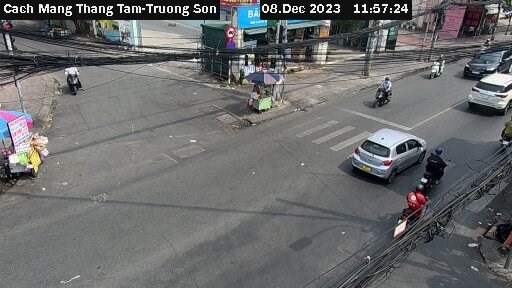car: (352, 121, 422, 177), (474, 70, 512, 113), (466, 42, 507, 80)
motorbike: (395, 189, 434, 231), (418, 152, 457, 190), (367, 76, 405, 113), (53, 63, 89, 94), (418, 57, 450, 84)
